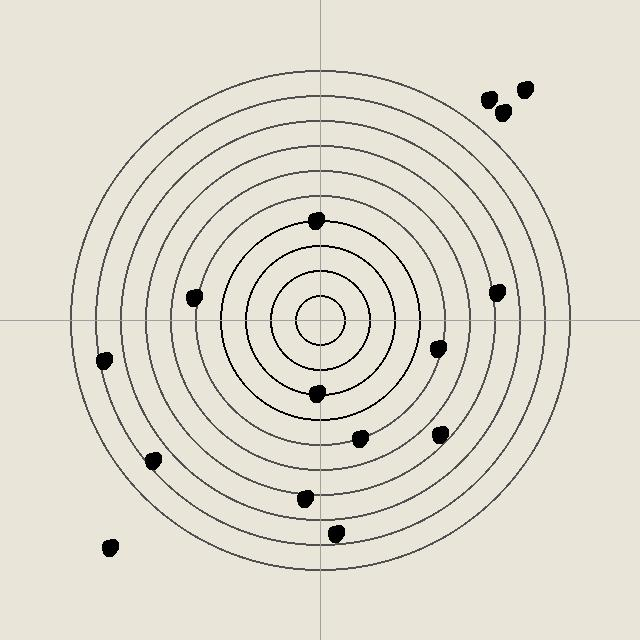random_scatter: (427, 338, 447, 358), (183, 287, 203, 307), (349, 428, 369, 448), (325, 523, 345, 543), (305, 210, 325, 230), (514, 79, 534, 99), (99, 537, 119, 557), (429, 424, 449, 444), (93, 350, 113, 370), (294, 488, 314, 508), (306, 383, 326, 403), (486, 282, 506, 302), (142, 450, 162, 470), (478, 89, 498, 109), (492, 102, 512, 122)
